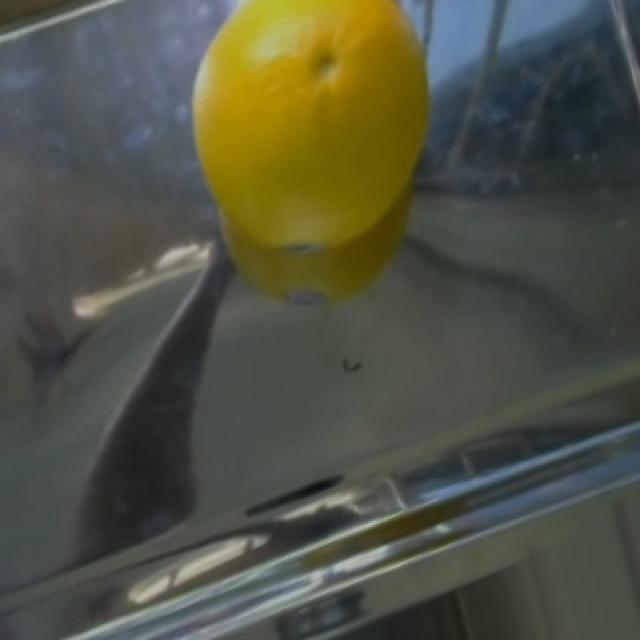Fruit: (173, 0, 444, 322), (0, 0, 164, 66)
